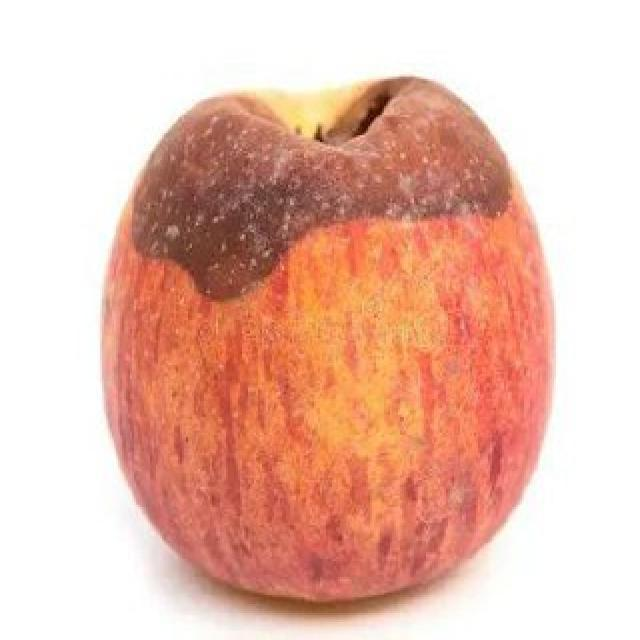Apple: (87, 68, 560, 613)
